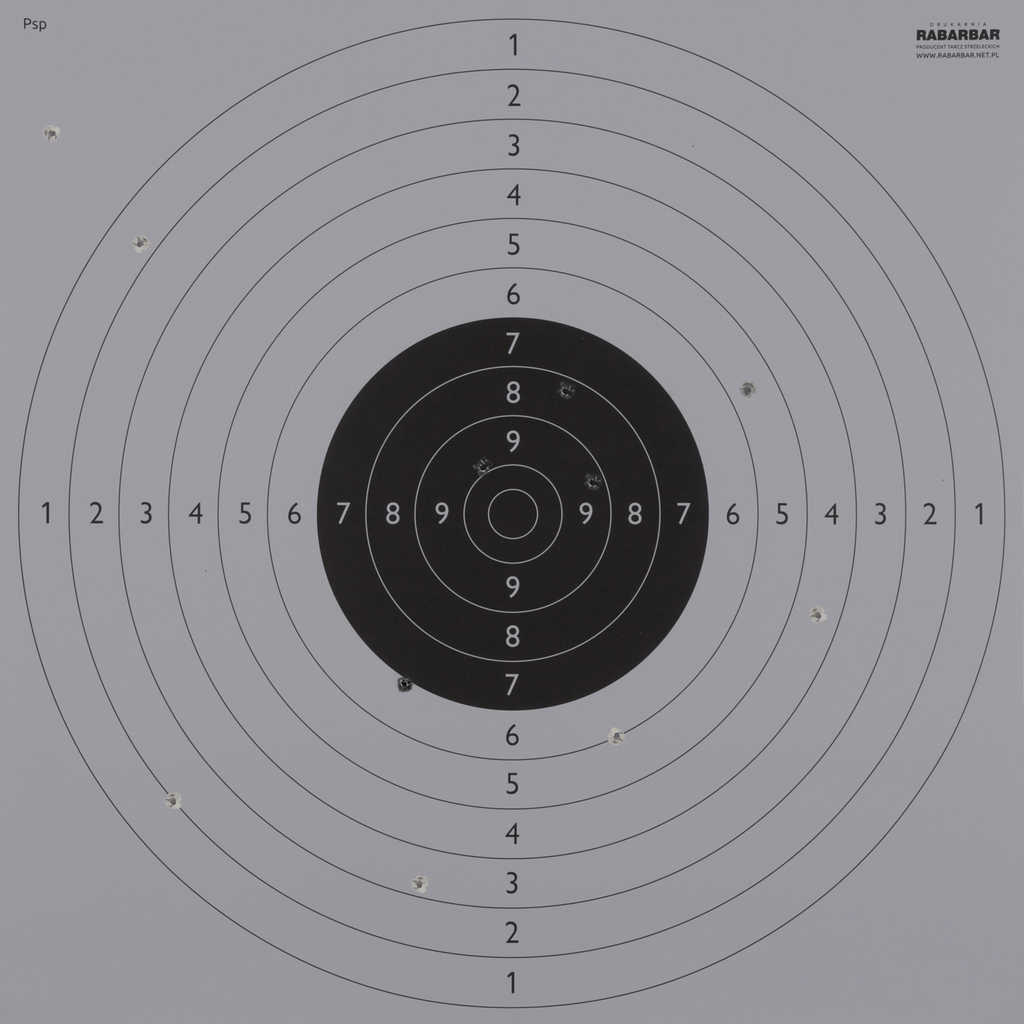0 punktow: (43, 124, 61, 143)
1 punkt: (131, 234, 149, 253)
10 punktow: (474, 457, 493, 476)
2 punkty: (164, 792, 182, 811)
3 punkty: (410, 875, 428, 894)
4 punkty: (809, 606, 827, 625)
5 punktow: (738, 381, 757, 399)
6 punktow: (608, 727, 626, 746)
7 punktow: (395, 675, 413, 693)
8 punktow: (557, 382, 575, 400)
9 punktow: (583, 473, 602, 492)
